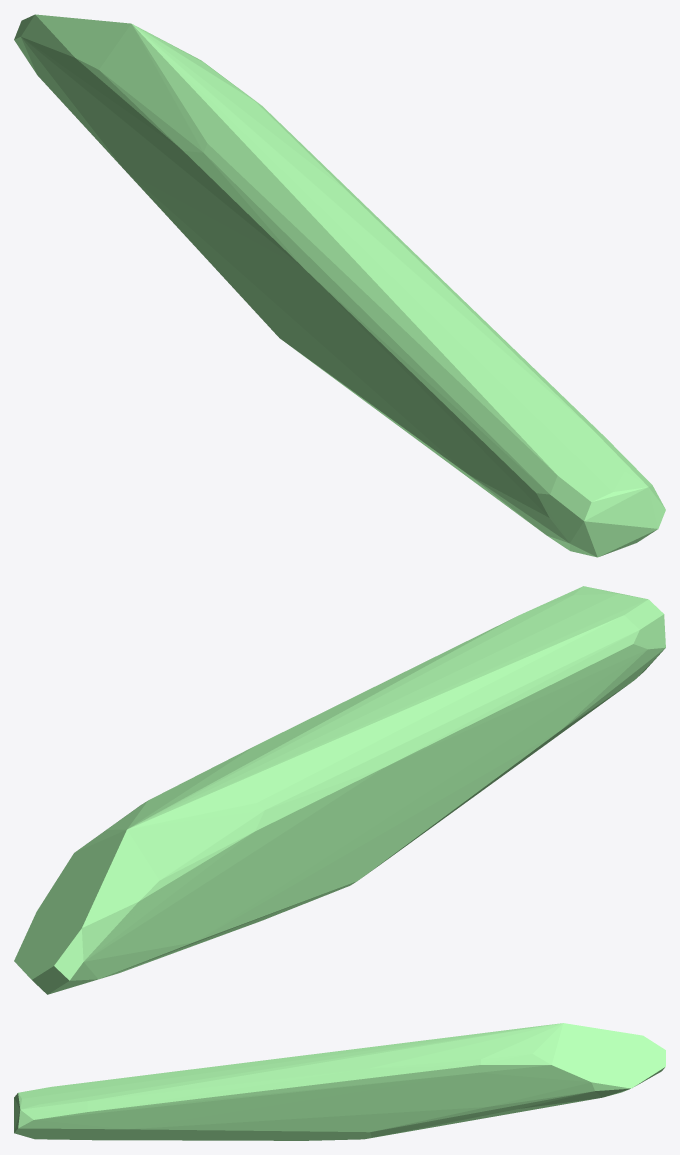
Rendered from dvkr_robot_Lp2_respondable_PSM2_coll_6.dae.
3 renders of one model, top to bottom at view 1: azimuth 30°, elevation 25°; view 2: azimuth 150°, elevation 25°; view 3: azimuth 270°, elevation 25°, orthographic. The views are drawn at different scales.
Parts seen in each view (by area): view 1: Node_0000023515114AE0; view 2: Node_0000023515114AE0; view 3: Node_0000023515114AE0.
Boxes of the visible parts, x1,y1,x2,y2 form: Node_0000023515114AE0: (14, 14, 665, 557); Node_0000023515114AE0: (14, 586, 665, 994); Node_0000023515114AE0: (14, 1023, 665, 1140).
Bounding box in the file's own units: 0.0244 × 0.0456 × 0.2505.
